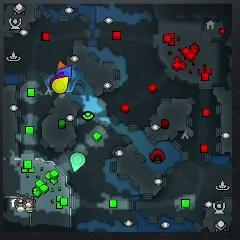p1: (57, 65, 73, 81)
p2: (70, 153, 85, 172)
p3: (50, 72, 65, 87)
p4: (52, 76, 69, 93)
p5: (56, 61, 65, 68)
